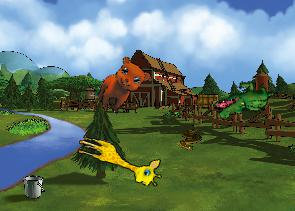bear: (92, 52, 154, 122)
crocodile: (210, 67, 279, 133)
giraffe: (71, 133, 166, 190)
